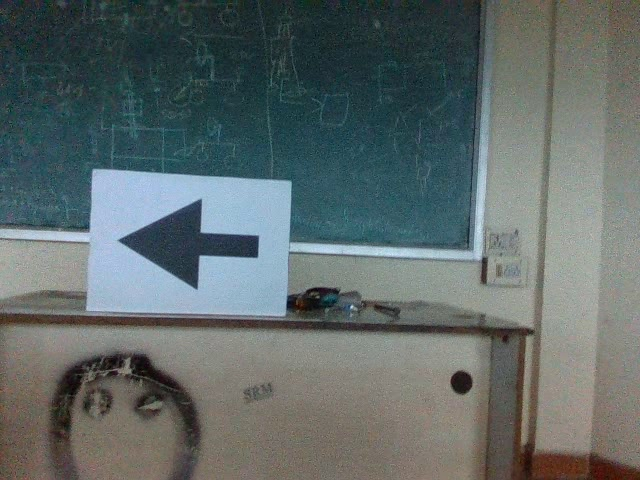Left: (114, 192, 266, 296)
